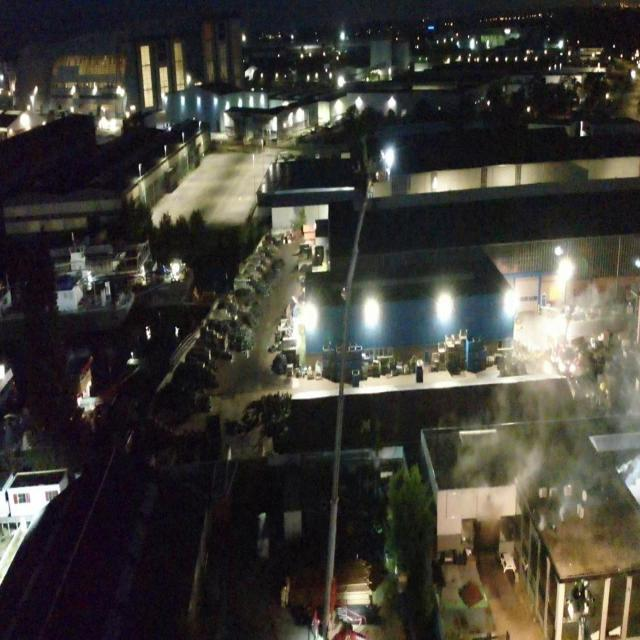Smoke: (454, 276, 640, 530)
